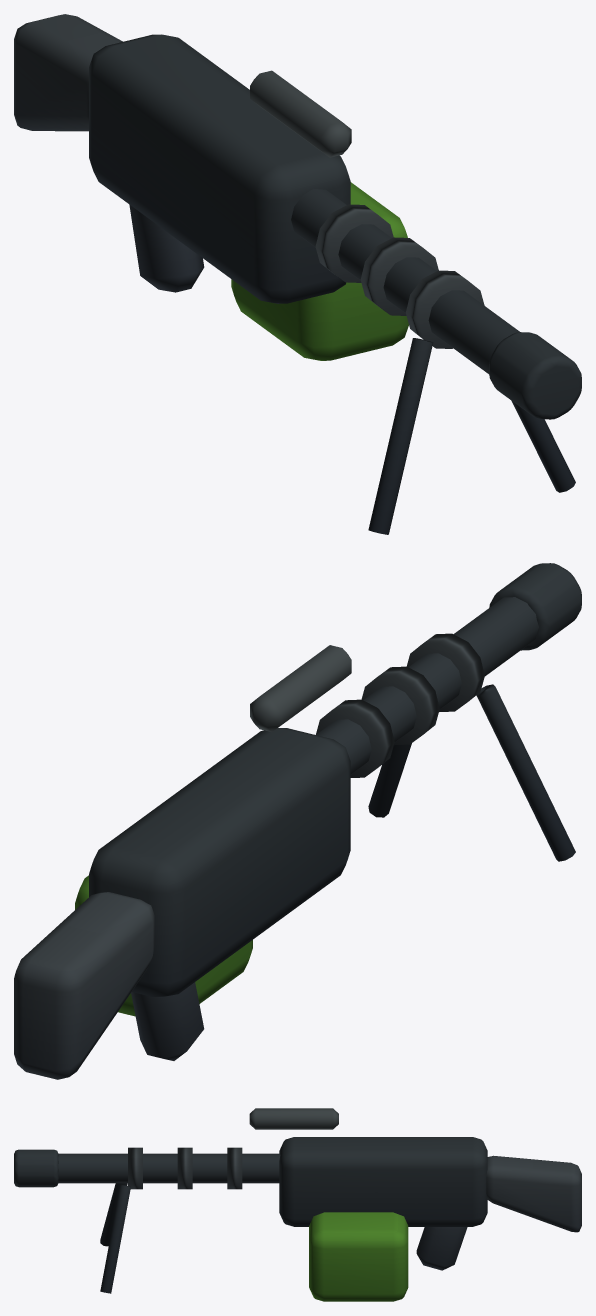
File: weapon_machineGun.glb
3 views of the same model, one above another, from view 1: azimuth 30°, elevation 25°; view 2: azimuth 150°, elevation 25°; view 3: azimuth 270°, elevation 25° (orthographic). The views are drawn at different scales.
Visible parts, largest first — view 1: Heavy receiver, Ammo box, Stock.003, Heavy barrel, Flash hider, Bipod leg, Carry handle, Pistol grip.005, Barrel cooling ring, Barrel cooling ring.001, Barrel cooling ring.002, Bipod leg.001; view 2: Heavy receiver, Stock.003, Heavy barrel, Bipod leg, Carry handle, Flash hider, Pistol grip.005, Barrel cooling ring.001, Barrel cooling ring.002, Barrel cooling ring, Ammo box, Bipod leg.001; view 3: Heavy receiver, Ammo box, Stock.003, Heavy barrel, Carry handle, Flash hider, Pistol grip.005, Bipod leg.001, Barrel cooling ring, Barrel cooling ring.001, Barrel cooling ring.002, Bipod leg.
Part boxes in pixels (<box>): Heavy receiver: <box>89,34,350,303</box>; Ammo box: <box>231,182,408,360</box>; Stock.003: <box>14,14,122,131</box>; Heavy barrel: <box>291,188,519,374</box>; Flash hider: <box>489,332,581,419</box>; Bipod leg: <box>368,338,433,534</box>; Carry handle: <box>250,70,351,157</box>; Pistol grip.005: <box>129,204,204,292</box>; Barrel cooling ring: <box>315,204,393,282</box>; Barrel cooling ring.001: <box>360,237,438,315</box>; Barrel cooling ring.002: <box>405,270,484,348</box>; Bipod leg.001: <box>511,401,575,492</box>; Heavy receiver: <box>89,728,350,997</box>; Stock.003: <box>14,892,154,1079</box>; Heavy barrel: <box>316,597,538,774</box>; Bipod leg: <box>476,684,575,861</box>; Carry handle: <box>250,645,351,731</box>; Flash hider: <box>489,563,581,650</box>; Pistol grip.005: <box>131,982,204,1060</box>; Barrel cooling ring.001: <box>361,666,439,745</box>; Barrel cooling ring.002: <box>406,633,484,711</box>; Barrel cooling ring: <box>316,699,394,777</box>; Ammo box: <box>75,875,252,1016</box>; Bipod leg.001: <box>368,743,411,817</box>; Heavy receiver: <box>279,1137,487,1226</box>; Ammo box: <box>309,1212,408,1301</box>; Stock.003: <box>486,1155,581,1232</box>; Heavy barrel: <box>58,1153,280,1183</box>; Carry handle: <box>249,1108,338,1129</box>; Flash hider: <box>14,1149,58,1187</box>; Pistol grip.005: <box>416,1227,467,1270</box>; Bipod leg.001: <box>100,1184,130,1293</box>; Barrel cooling ring: <box>227,1147,242,1189</box>; Barrel cooling ring.001: <box>177,1147,192,1189</box>; Barrel cooling ring.002: <box>128,1147,142,1189</box>; Bipod leg: <box>100,1183,127,1246</box>.
Bounding box in the file's own units: 0.3007 × 0.36 × 1.15.
Materials: 4 (4 with a texture image).
